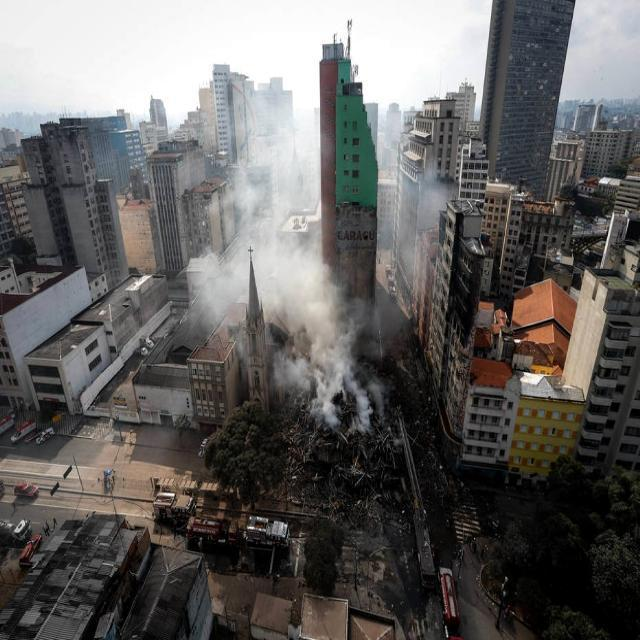Smoke: (184, 60, 366, 405), (358, 88, 451, 290)
